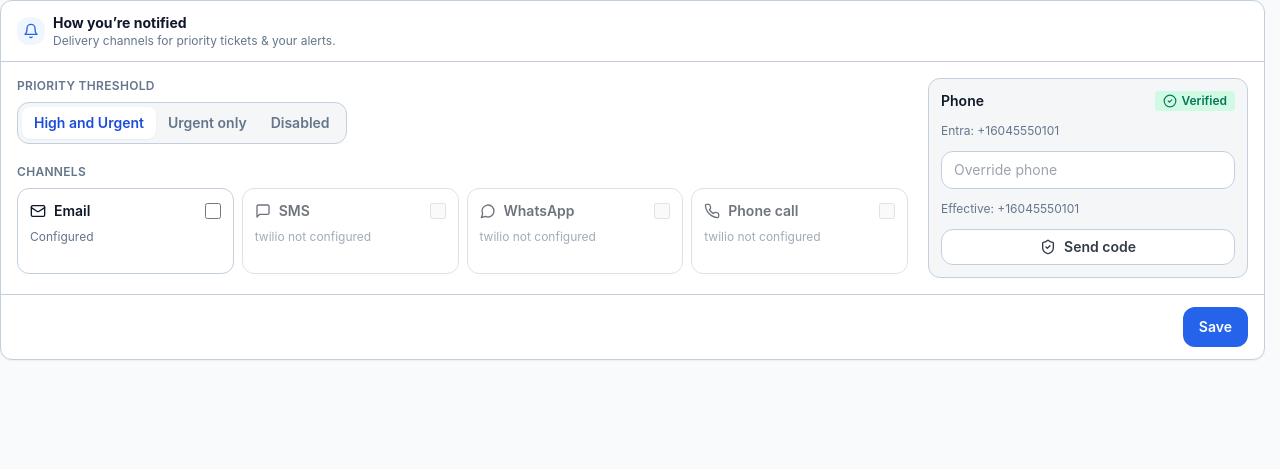
Test: NotificationSettingsPanel › an already verified phone still gets a code box after Send code, without the panel flashing
expect the text "Verified" is shown: met, box [1155,91,1235,111]
expect the field labelled "Verification code" is not shown: met
Step 1. Click the button "Send code" → (1088,247), box [941,229,1235,265]
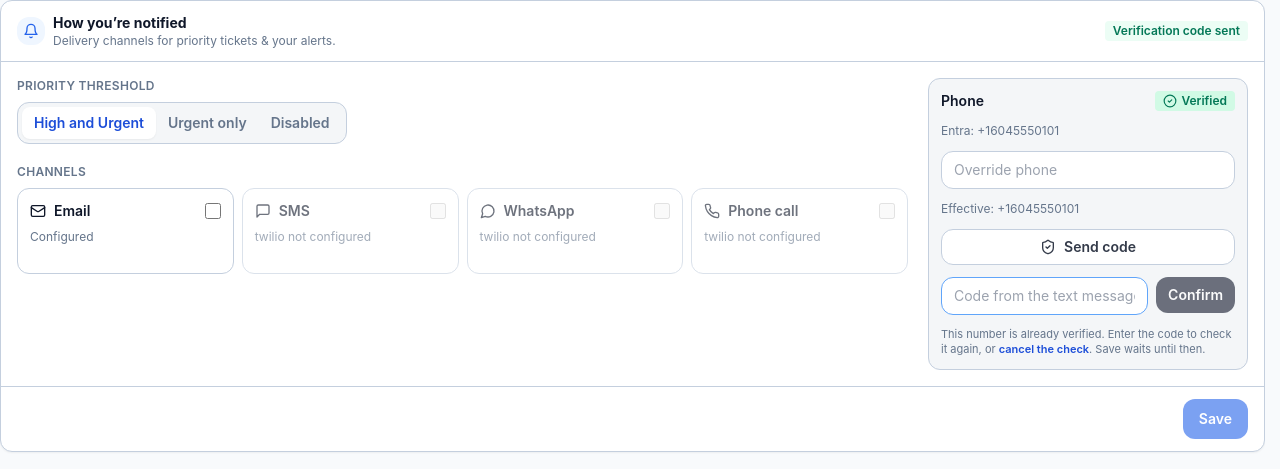
expect the text "Priority threshold" is shown: met, box [17,78,155,93]
expect the field named "Verification code" is shown: met, box [941,277,1148,315]
expect the text "Verification code sent" is shown: met, box [1105,21,1248,41]
